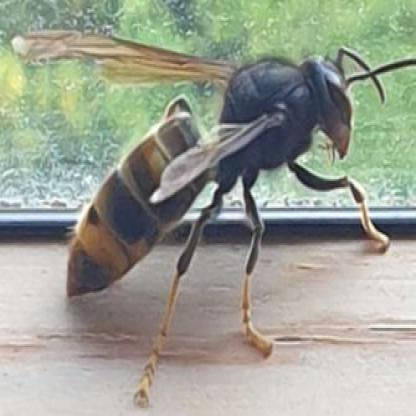Asian Hornet: (14, 17, 409, 411)
